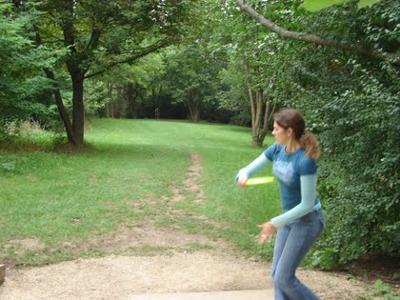person: (237, 108, 329, 300)
